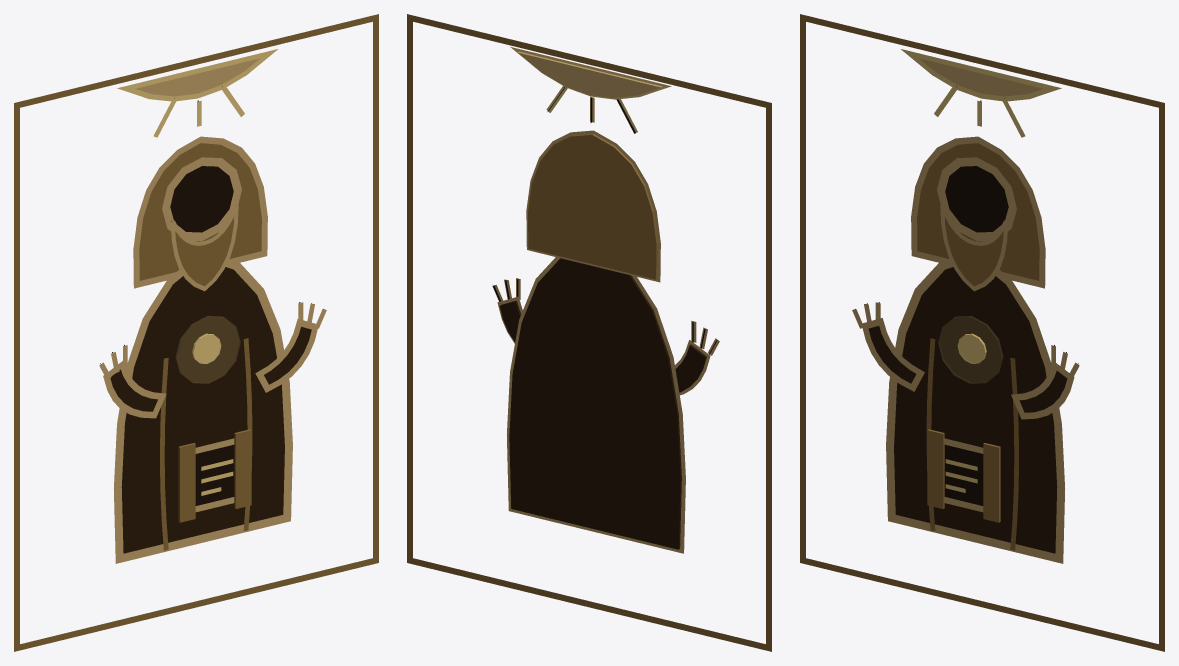
File: npc-symeon-new-theologian.glb
3 renders of one model, left to right at view 1: azimuth 30°, elevation 25°; view 2: azimuth 150°, elevation 25°; view 3: azimuth 330°, elevation 25°, orthographic.
Visible parts, largest first — view 1: npc-symeon-new-theologian; view 2: npc-symeon-new-theologian; view 3: npc-symeon-new-theologian.
Boxes of the visible parts, x1,y1,x2,y2 form: npc-symeon-new-theologian: (14, 14, 378, 651); npc-symeon-new-theologian: (407, 14, 771, 651); npc-symeon-new-theologian: (800, 14, 1164, 651).
Bounding box in the file's own units: 1.14 × 1.64 × 0.1129.
